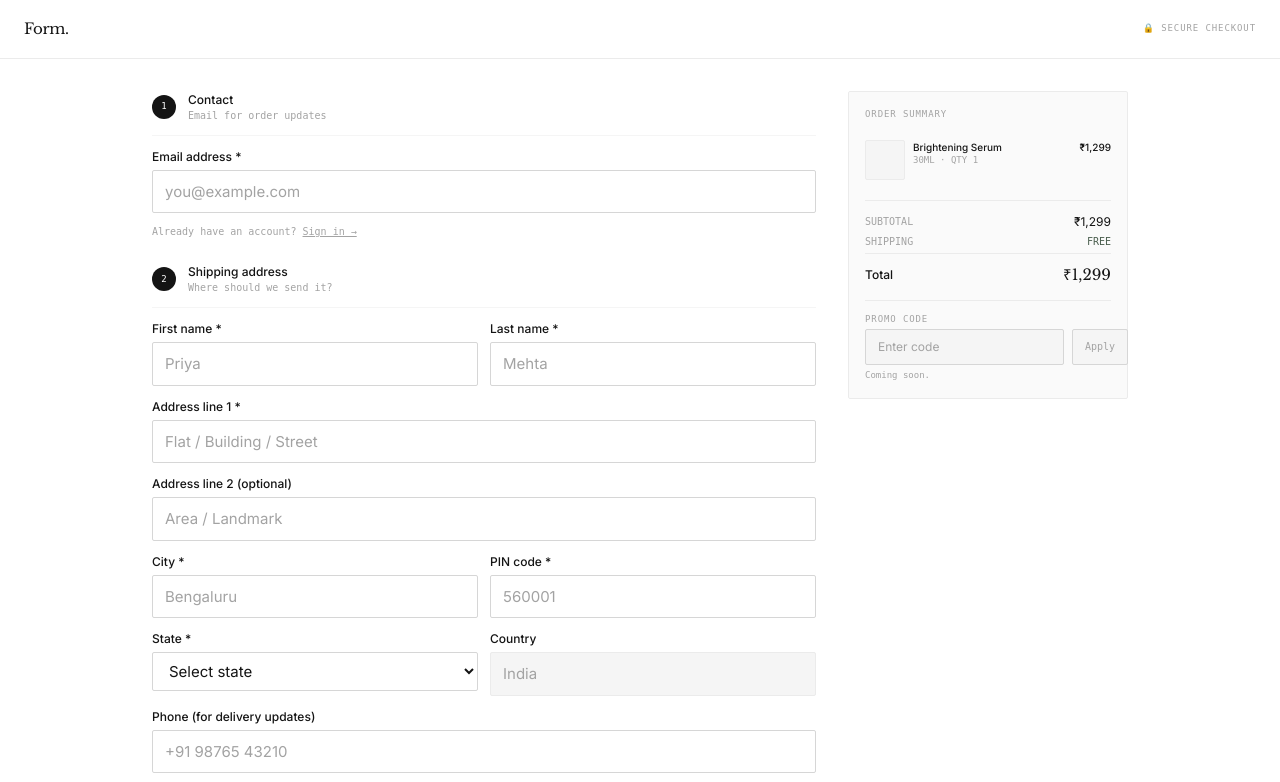
Test case: CheckoutPage — form validation › shows first name error when first name is missing
The width and height of the screenshot is (1280, 782).
In the field with test id "input-email": (484, 191) [152,170,816,213], type "x@x.com"
(page scrolled)
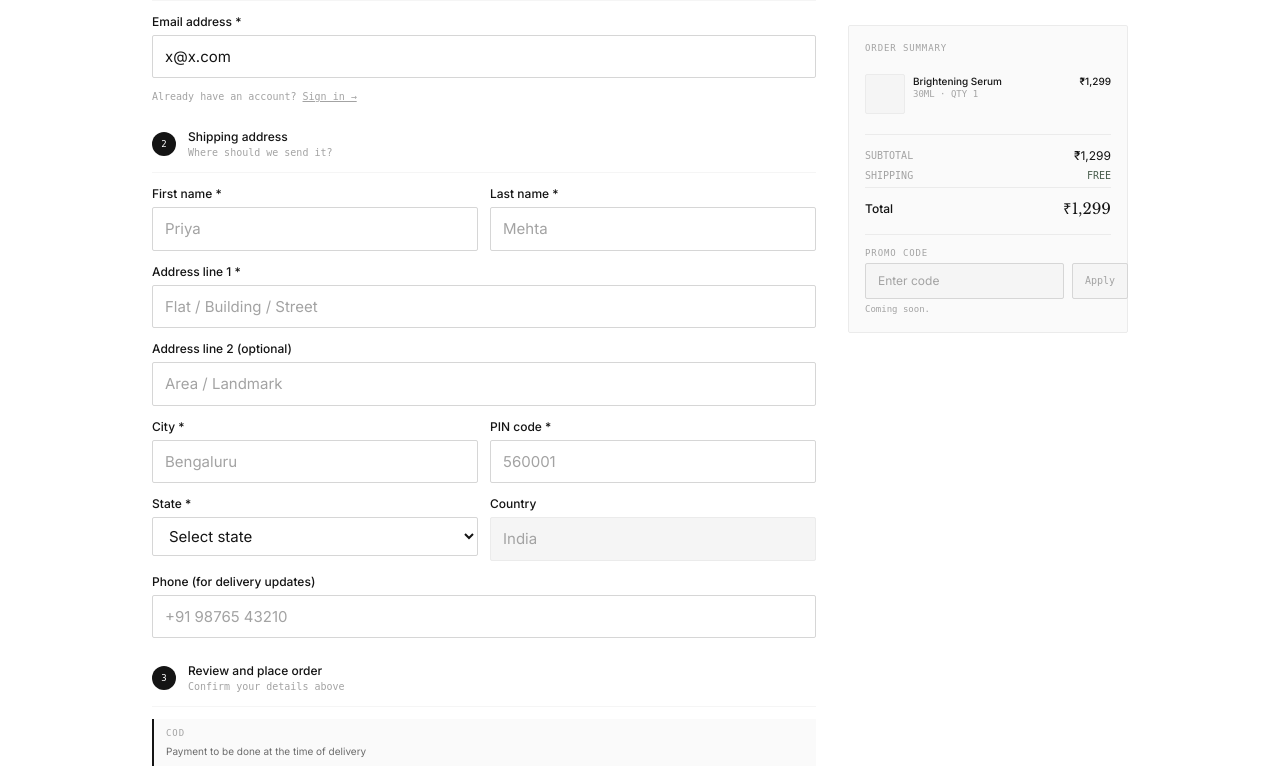
Submit the form with test id "checkout-form"
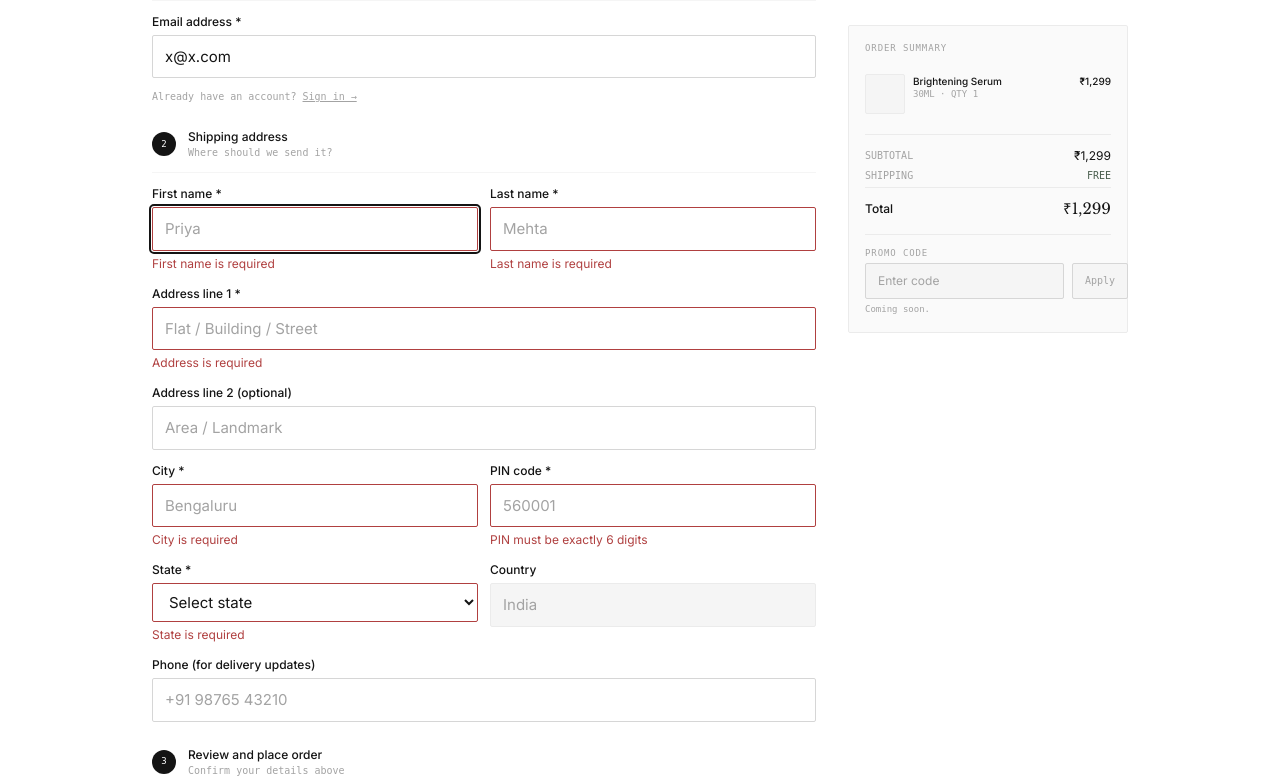
Check: the text "First name is required" is shown, box [152,256,275,270]
